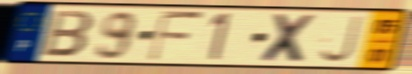1: (207, 11, 232, 63)
9: (94, 10, 139, 60)
B: (39, 8, 97, 59)
F: (145, 8, 207, 63)
J: (317, 14, 365, 65)
X: (258, 12, 321, 65)
